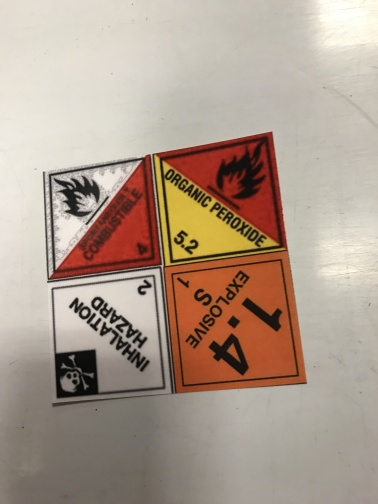Explosive: (164, 249, 308, 393)
InhalationHazard: (48, 268, 172, 406)
OrganicPeroxide: (154, 131, 288, 263)
SpontaneouslyCombustible: (43, 155, 162, 281)
